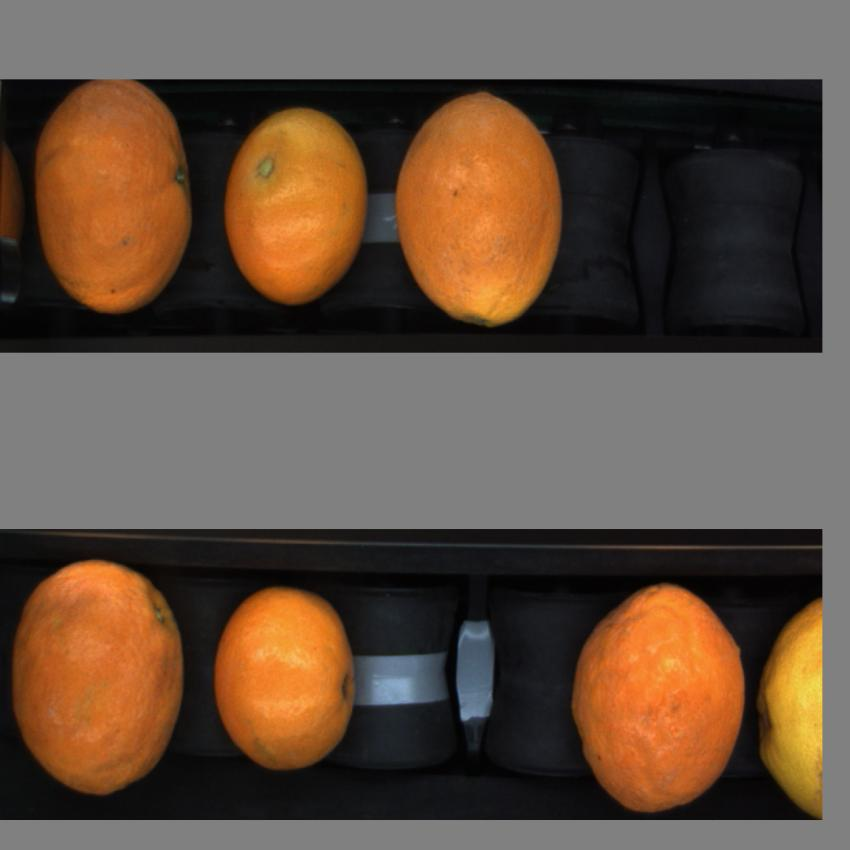Buen estado: (226, 111, 368, 307), (212, 586, 362, 770), (758, 594, 822, 805)
Mal estado: (10, 559, 198, 794), (392, 98, 572, 326), (27, 83, 198, 314), (571, 582, 746, 807)
